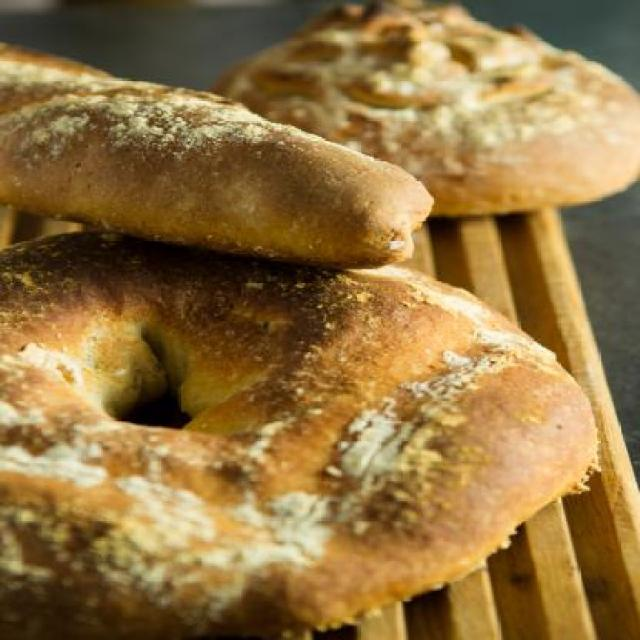Bagel: (0, 231, 597, 638), (0, 46, 432, 270), (213, 2, 639, 218)
